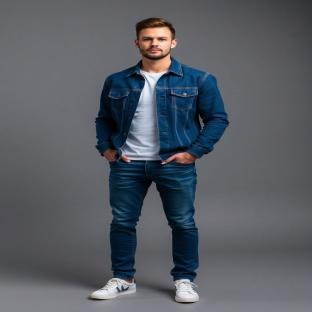Human: (91, 17, 228, 302)
